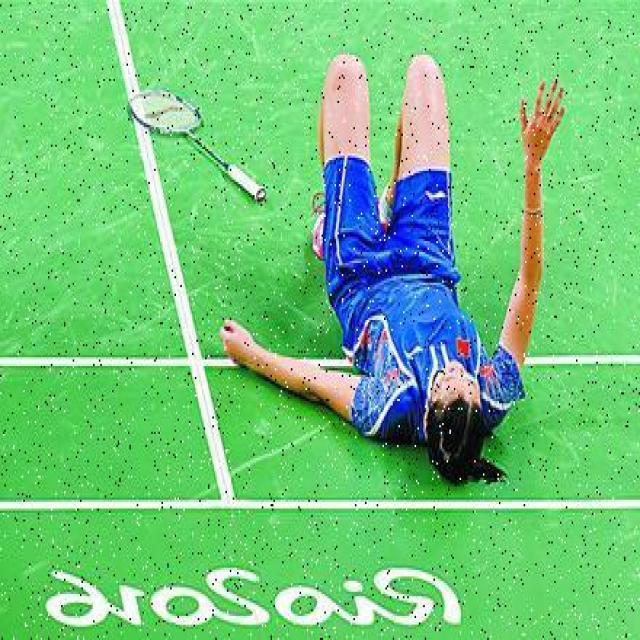fall: (292, 50, 563, 462)
